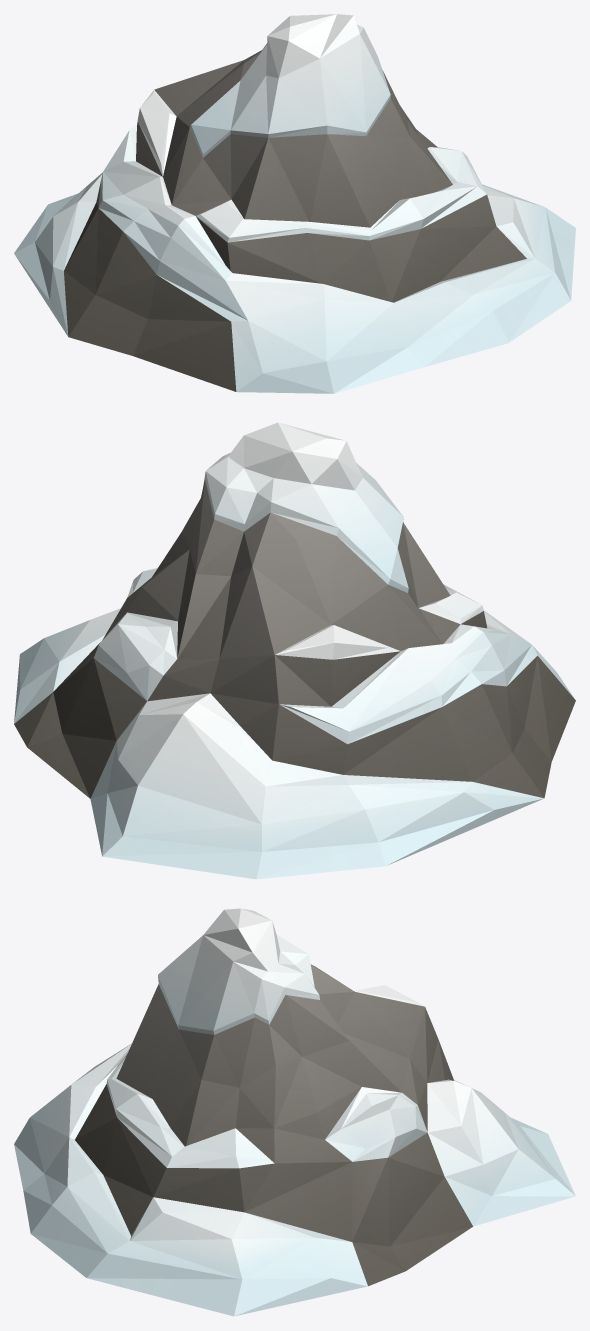
File: HX-shan1.FBX
3 views of the same model, one above another, from view 1: azimuth 30°, elevation 25°; view 2: azimuth 150°, elevation 25°; view 3: azimuth 270°, elevation 25° (orthographic). The views are drawn at different scales.
Parts seen in each view (by area): view 1: shan1; view 2: shan1; view 3: shan1.
Part boxes in pixels (x1,y1,x2,y2): shan1: (14, 14, 575, 393); shan1: (14, 422, 575, 879); shan1: (14, 908, 575, 1316).
Size of the model in its own units: 10430 by 5467 by 10249.
